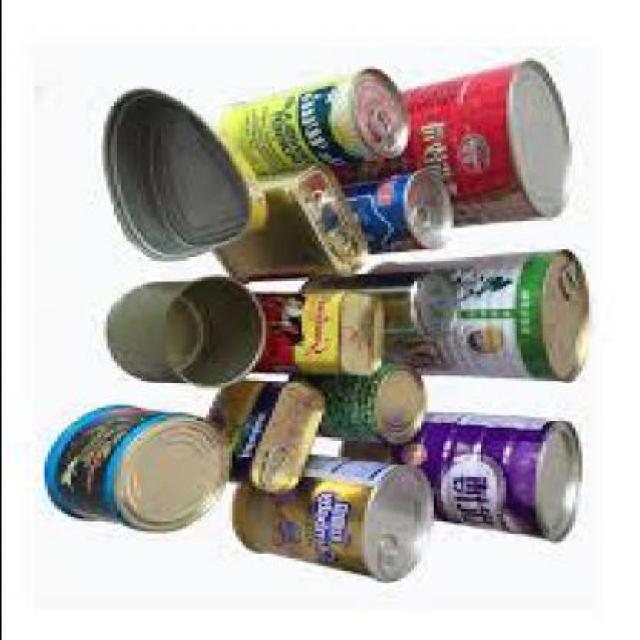METAL: (326, 62, 574, 225), (344, 411, 584, 543), (372, 254, 594, 386), (105, 91, 270, 262), (234, 454, 435, 586), (46, 404, 231, 534), (234, 70, 415, 176), (208, 170, 369, 284), (108, 282, 267, 390), (215, 380, 330, 497), (297, 368, 429, 444), (336, 174, 452, 254)
